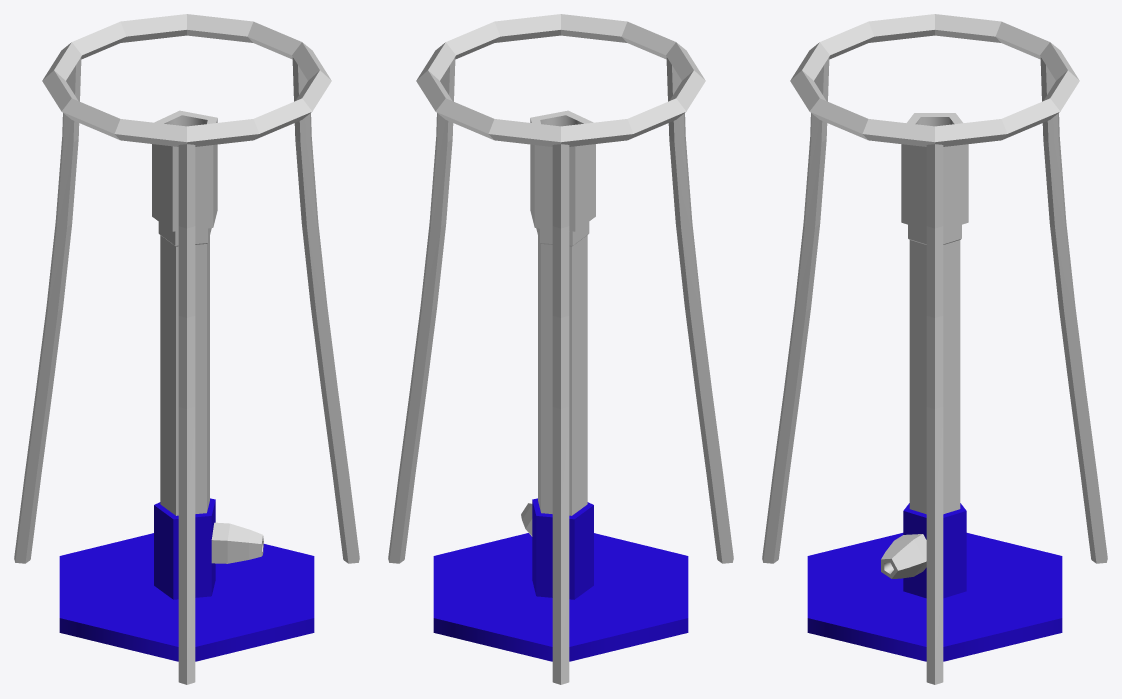
The model's file is BunsenBurner.fbx.
3 renders of one model, left to right at view 1: azimuth 30°, elevation 25°; view 2: azimuth 150°, elevation 25°; view 3: azimuth 270°, elevation 25°, orthographic.
Parts seen in each view (by area): view 1: Cylinder001, Torus001; view 2: Cylinder001, Torus001; view 3: Cylinder001, Torus001.
Part boxes in pixels (x1,y1,x2,y2): Cylinder001: (59,110,314,661); Torus001: (14,14,359,684); Cylinder001: (433,110,688,661); Torus001: (388,14,733,684); Cylinder001: (807,113,1062,661); Torus001: (762,14,1107,684).
Size of the model in its own units: 9.88 by 16.73 by 9.86.
